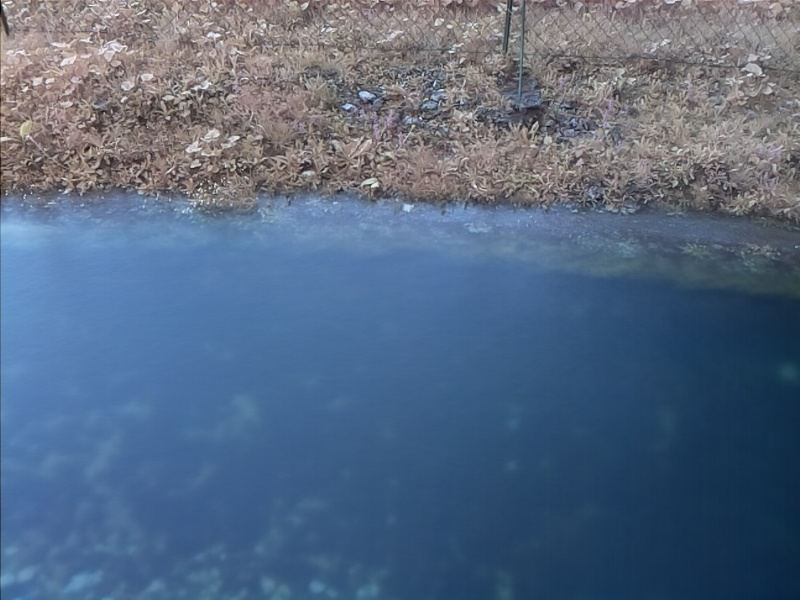Water: (1, 195, 797, 600)
